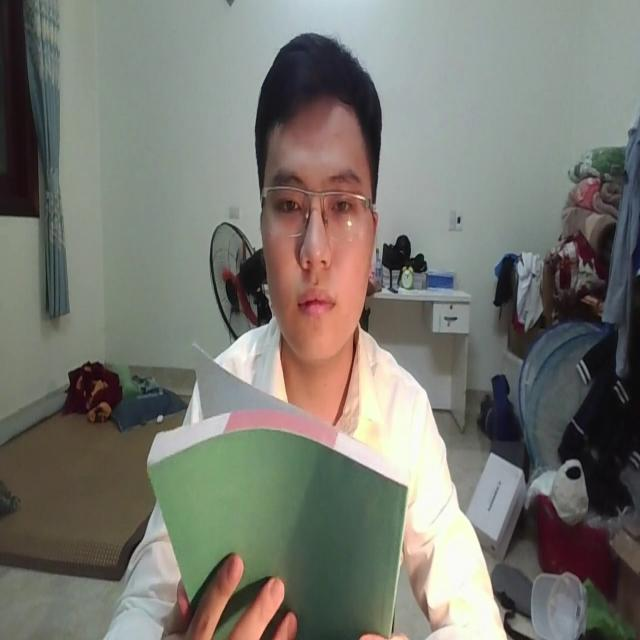book: (146, 336, 414, 636)
student: (106, 30, 507, 640)
